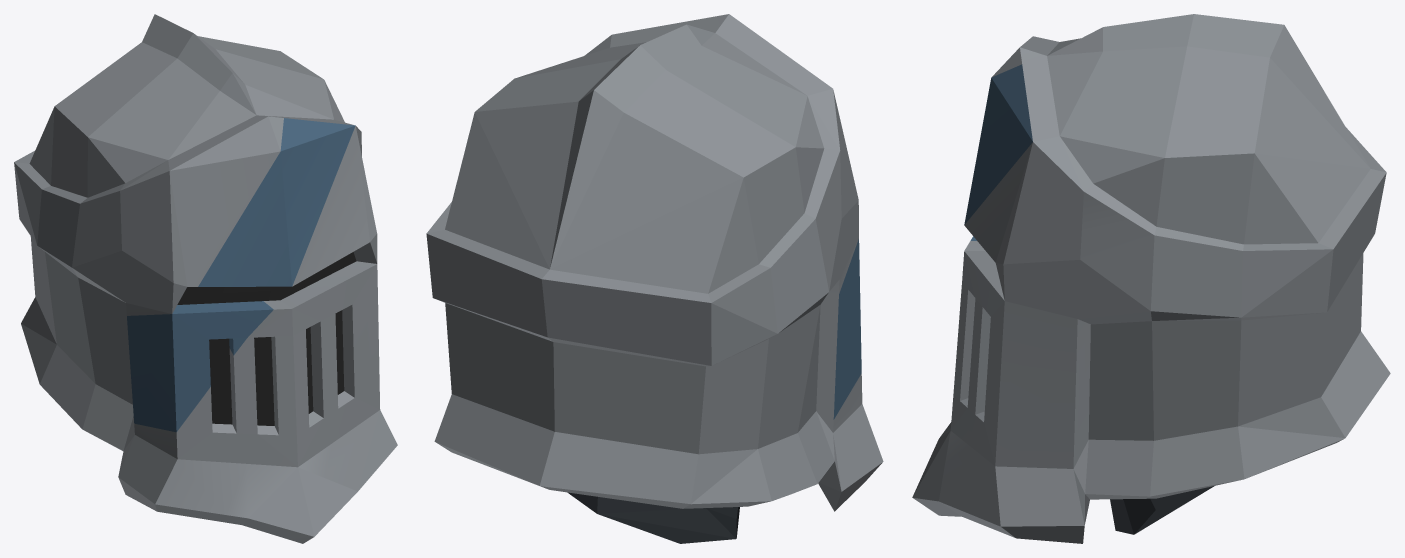
The model's file is Chr_Head_No_Elements_Female_12_Static.fbx.
The picture shows the model from 3 angles, left to right: view 1: azimuth 30°, elevation 25°; view 2: azimuth 150°, elevation 25°; view 3: azimuth 270°, elevation 25°; orthographic projection. The views are drawn at different scales.
Parts seen in each view (by area): view 1: Chr_Head_No_Elements_Female_12_Static; view 2: Chr_Head_No_Elements_Female_12_Static; view 3: Chr_Head_No_Elements_Female_12_Static.
Boxes of the visible parts, left/top/right/bottom form: Chr_Head_No_Elements_Female_12_Static: left=14, top=14, right=397, bottom=543; Chr_Head_No_Elements_Female_12_Static: left=426, top=14, right=883, bottom=543; Chr_Head_No_Elements_Female_12_Static: left=912, top=14, right=1390, bottom=543.
Bounding box in the file's own units: 0.2766 × 0.4184 × 0.3512.
